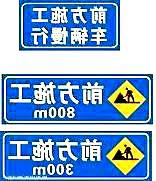sign: (3, 75, 152, 122), (2, 133, 149, 179), (20, 2, 118, 48)
